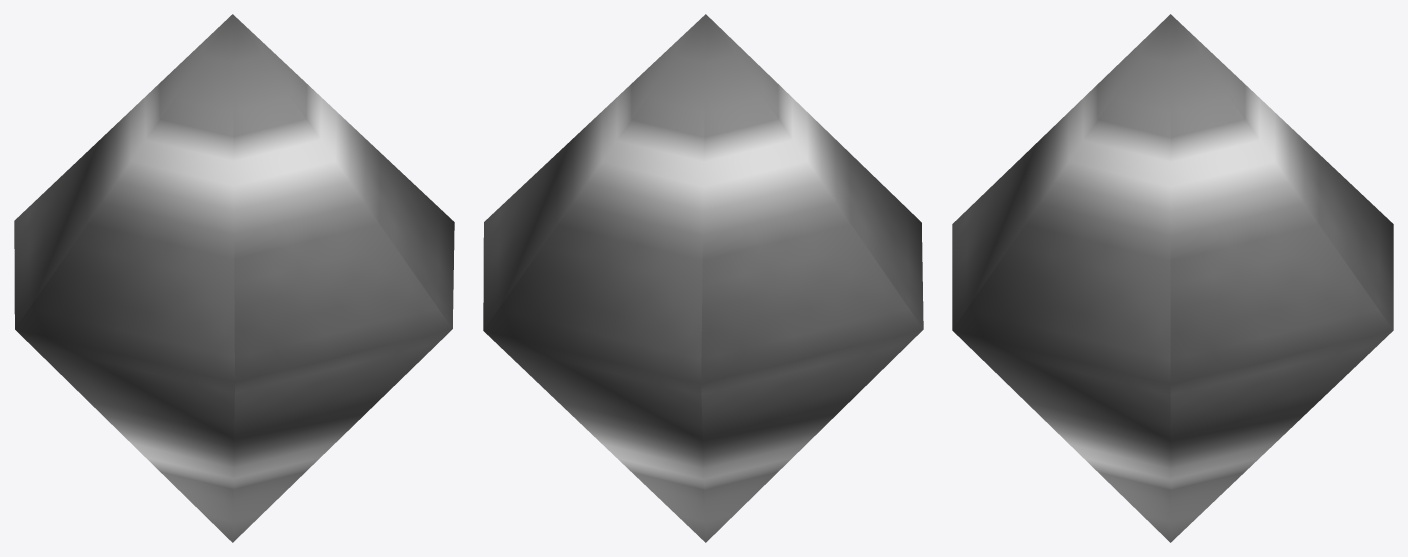
File: grenade.glb
3 views of the same model, side by side, from view 1: azimuth 30°, elevation 25°; view 2: azimuth 150°, elevation 25°; view 3: azimuth 270°, elevation 25° (orthographic).
Parts seen in each view (by area): view 1: root; view 2: root; view 3: root.
Part boxes in pixels (<box>): root: <box>14,14,454,542</box>; root: <box>483,14,923,542</box>; root: <box>952,14,1393,542</box>.
Bounding box in the file's own units: 0.209 × 0.2402 × 0.1816.
Materials: 1 (1 with a texture image).
